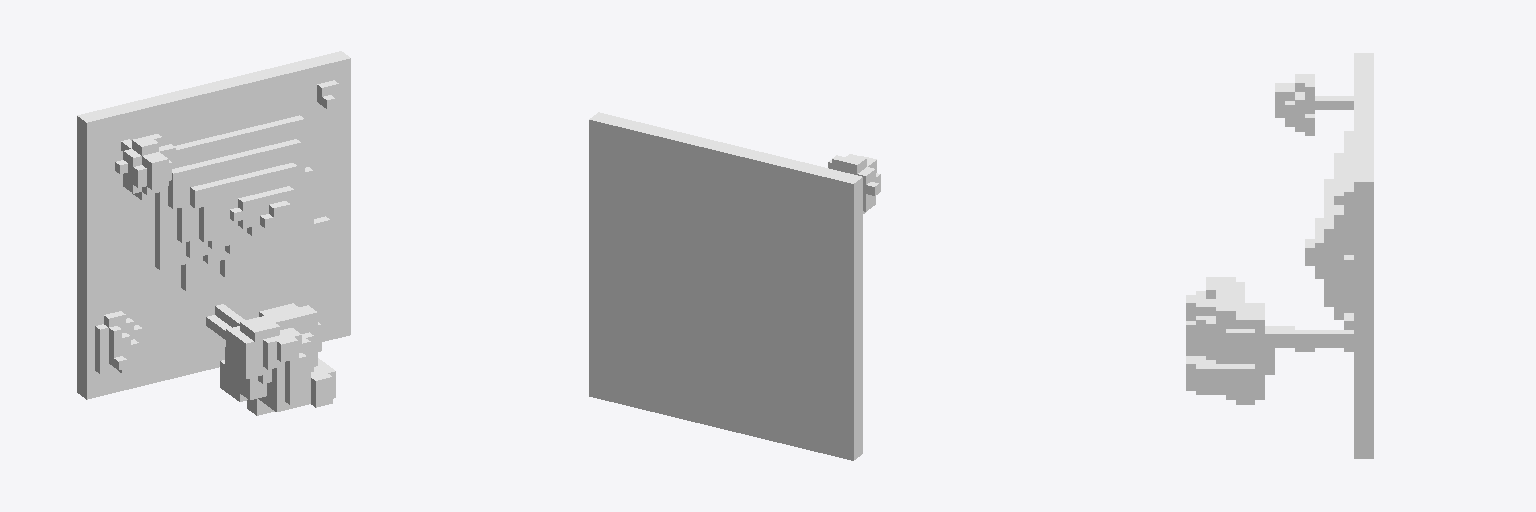
File: Park4.obj
3 renders of one model, left to right at view 1: azimuth 30°, elevation 25°; view 2: azimuth 150°, elevation 25°; view 3: azimuth 270°, elevation 25°, orthographic.
Visible parts, largest first — view 1: Park4; view 2: Park4; view 3: Park4.
Boxes of the visible parts, x1,y1,x2,y2 form: Park4: [77, 51, 350, 415]; Park4: [589, 112, 880, 460]; Park4: [1186, 53, 1373, 458].
Bounding box in the file's own units: 31 × 31 × 19.